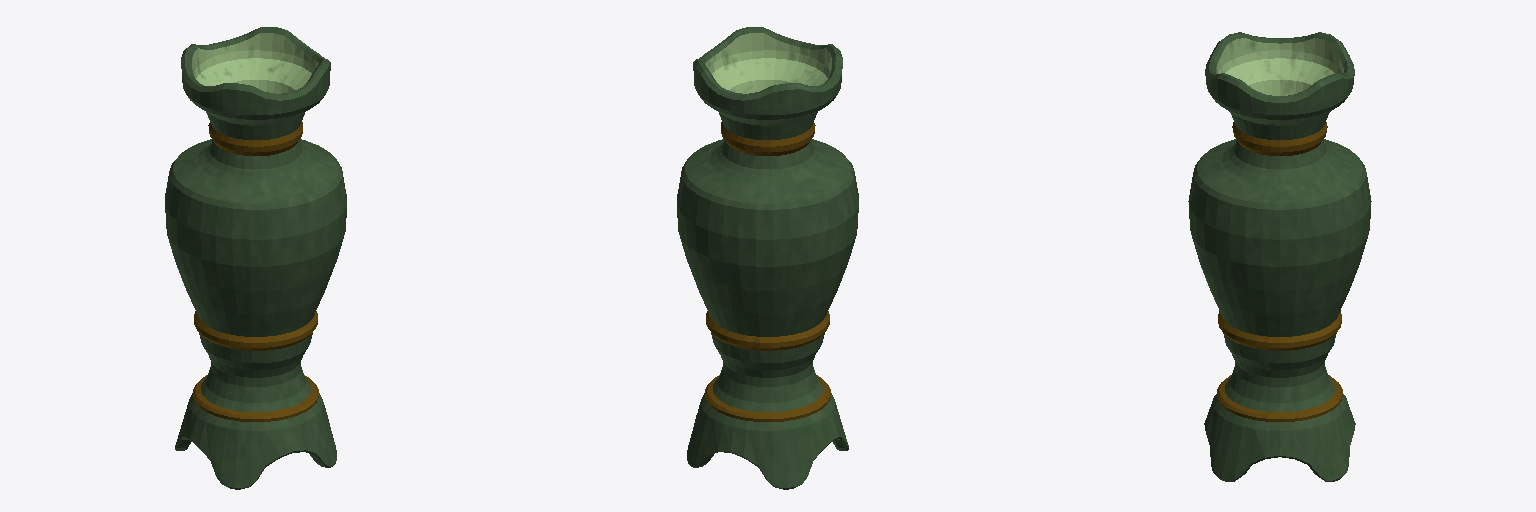
The picture shows the model from 3 angles: view 1: azimuth 30°, elevation 25°; view 2: azimuth 150°, elevation 25°; view 3: azimuth 270°, elevation 25°; orthographic projection.
Visible parts, largest first — view 1: Cylinder.008, Cylinder.009, Cylinder.010; view 2: Cylinder.008, Cylinder.009, Cylinder.010; view 3: Cylinder.008, Cylinder.009, Cylinder.010.
Part boxes in pixels (left/top/right/bottom): Cylinder.008: left=165, top=27, right=346, bottom=489; Cylinder.009: left=192, top=33, right=318, bottom=93; Cylinder.010: left=193, top=122, right=318, bottom=421; Cylinder.008: left=677, top=27, right=858, bottom=489; Cylinder.009: left=705, top=33, right=831, bottom=93; Cylinder.010: left=705, top=122, right=830, bottom=421; Cylinder.008: left=1188, top=32, right=1371, bottom=481; Cylinder.009: left=1216, top=38, right=1343, bottom=95; Cylinder.010: left=1217, top=122, right=1342, bottom=421.
Size of the model in its own units: 0.8377 by 2.02 by 0.8377.
1 materials, 1 textured.